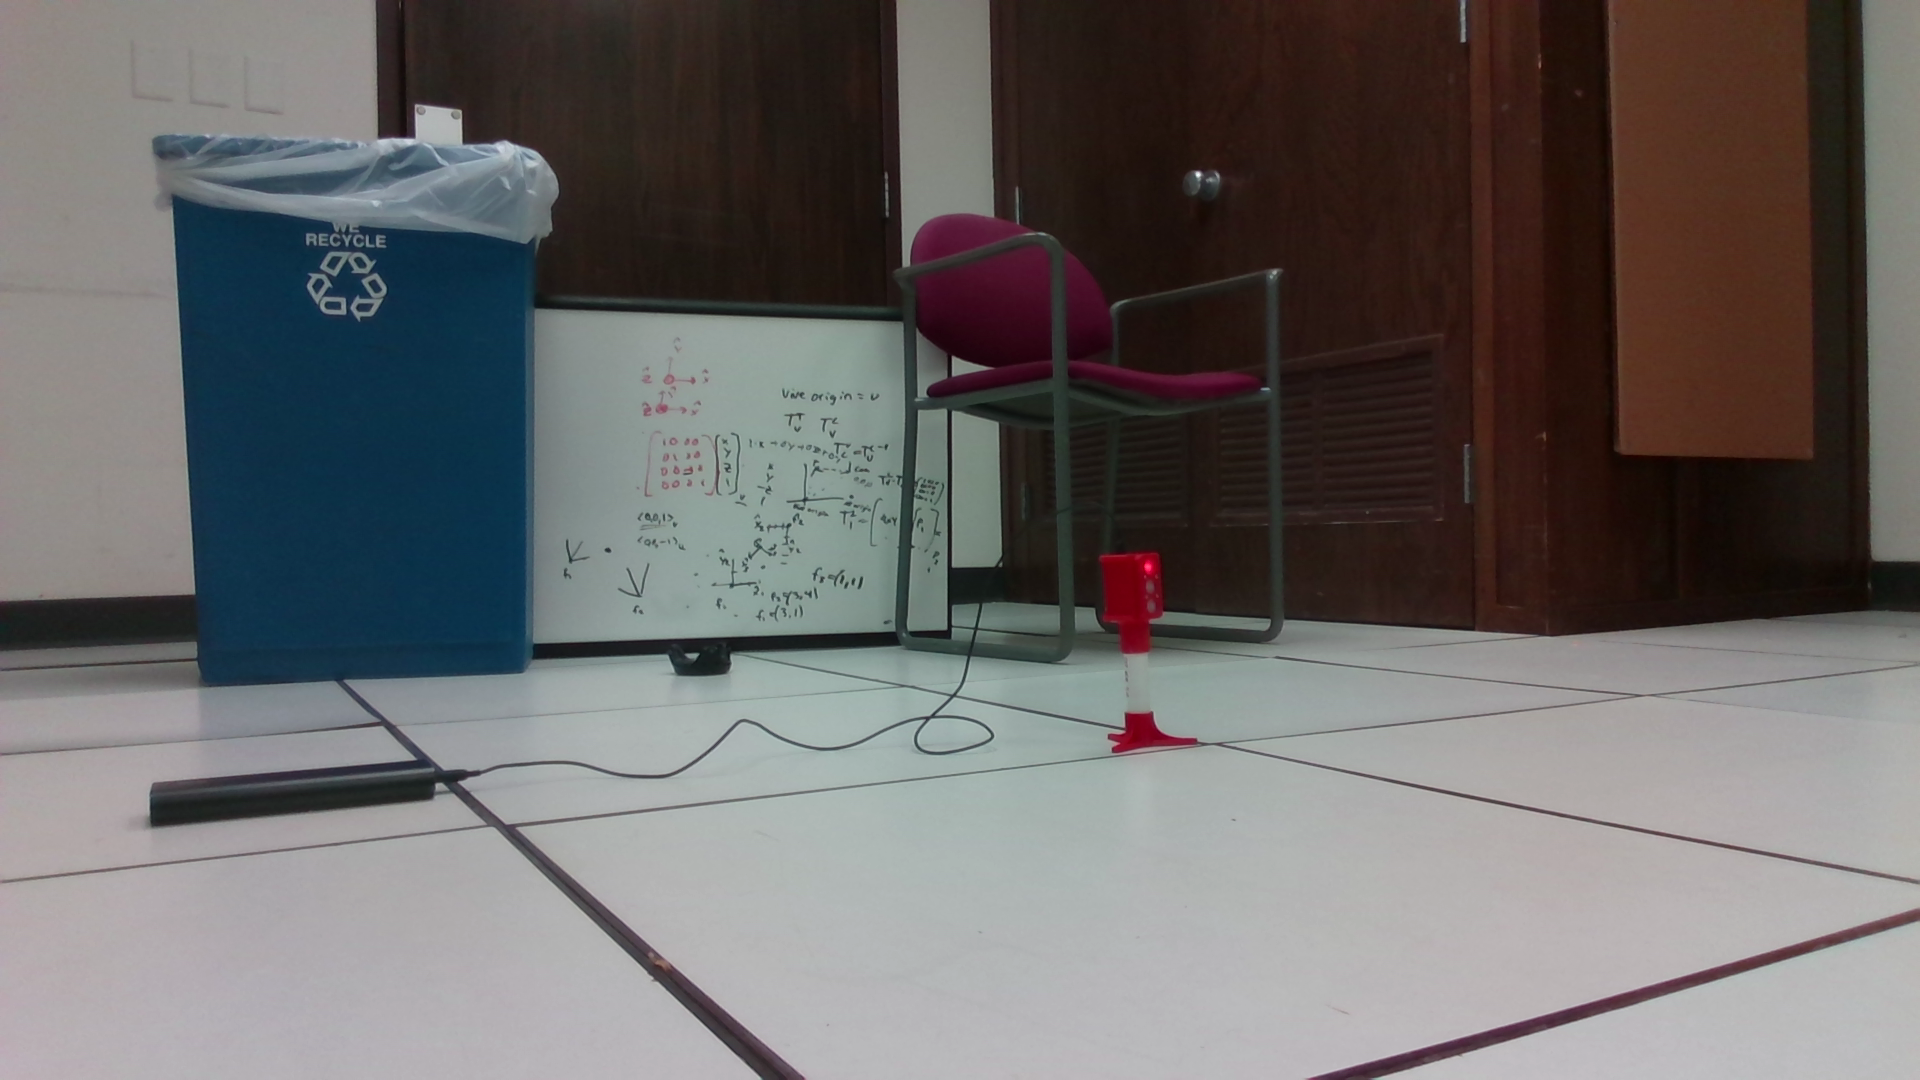stoplight: (1098, 549, 1167, 657)
